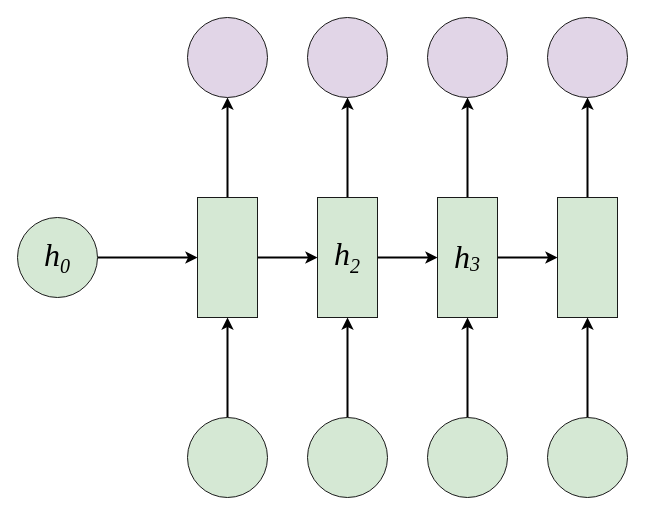
The diagram is 645 pixels wide and 515 high, and some of its shapes have lost their labels. The shapes that lost their labels are listed below. From the top down, each one's box as (x1, y1, x2, y2) in pixels, then its label:
(196, 196, 258, 318): h 1
(556, 196, 618, 318): h 4
